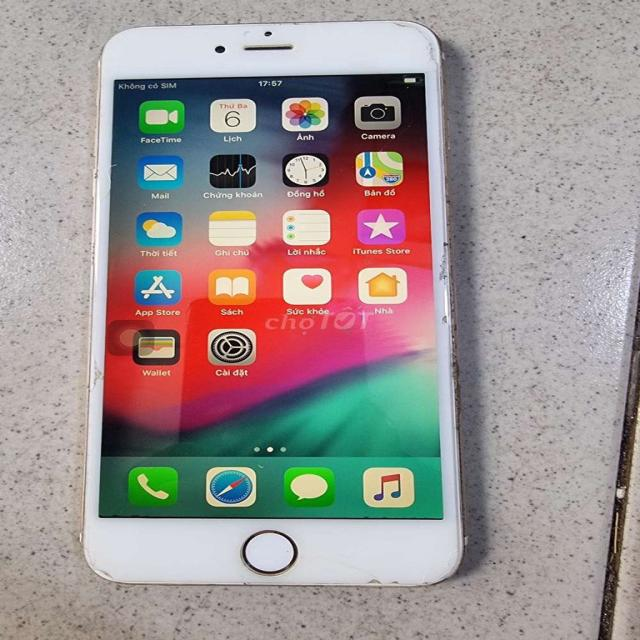gen_6: (85, 21, 461, 584)
physical_damage: (426, 227, 456, 359), (328, 560, 435, 594), (387, 8, 448, 64), (85, 344, 112, 411)
